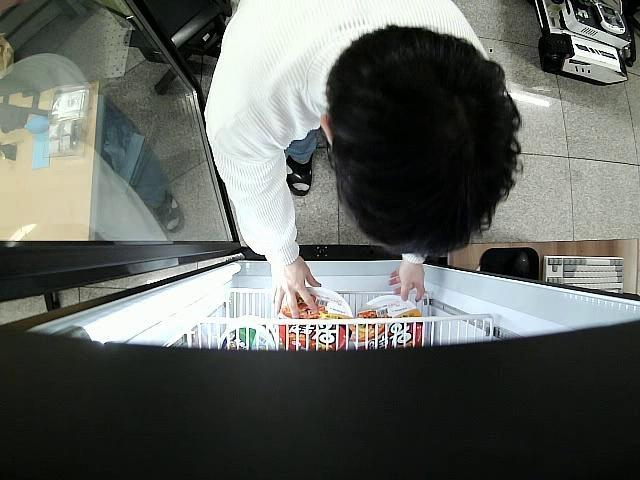10_wangTtukkeong: (282, 285, 354, 352), (355, 295, 425, 351)
